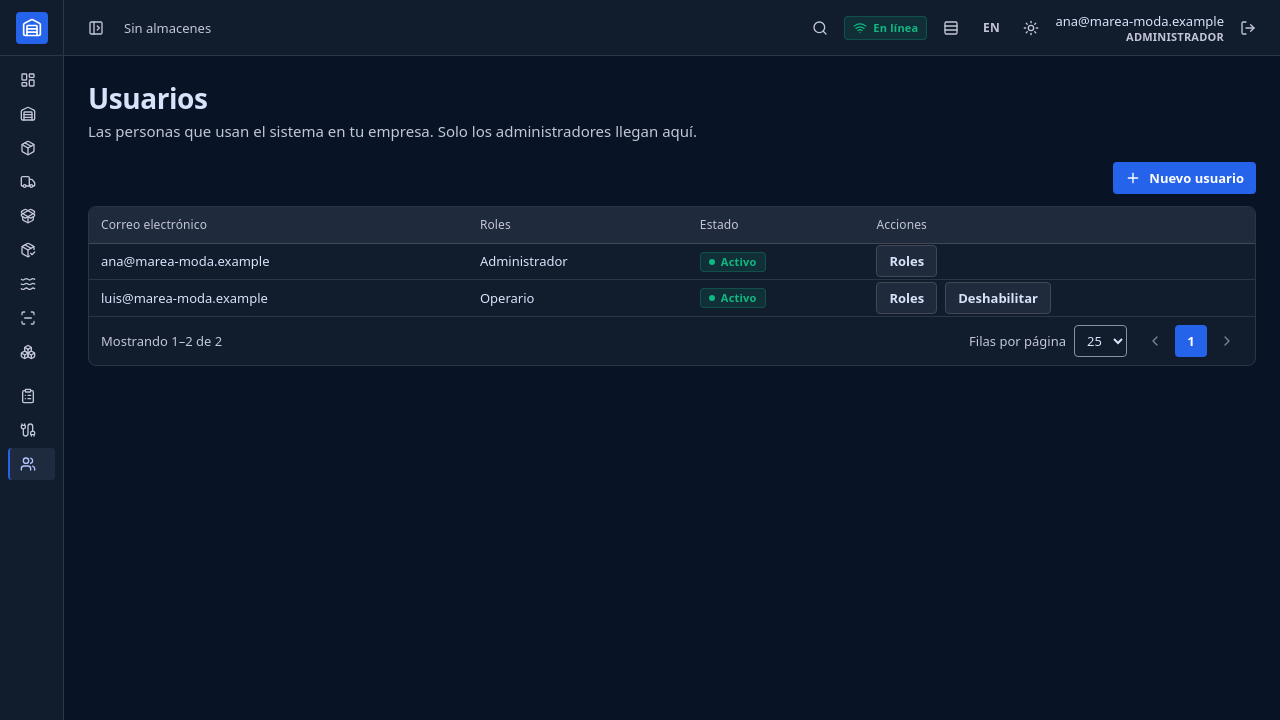
Test: the users › asks before disabling, and says why the API refused
Click the button with aria-label "Deshabilitar a luis@marea-moda.example" at (998, 298), box [945,282,1051,314]
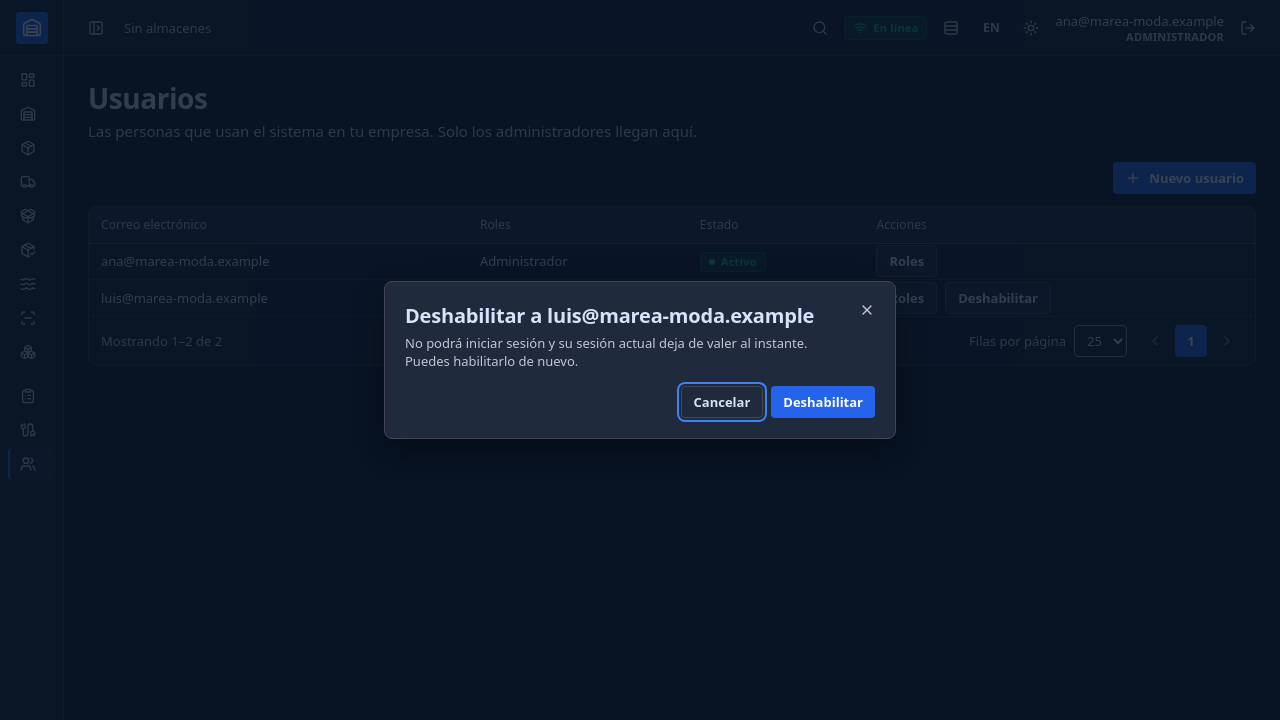
Click the button "Deshabilitar" at (823, 402), box [771,386,875,418]
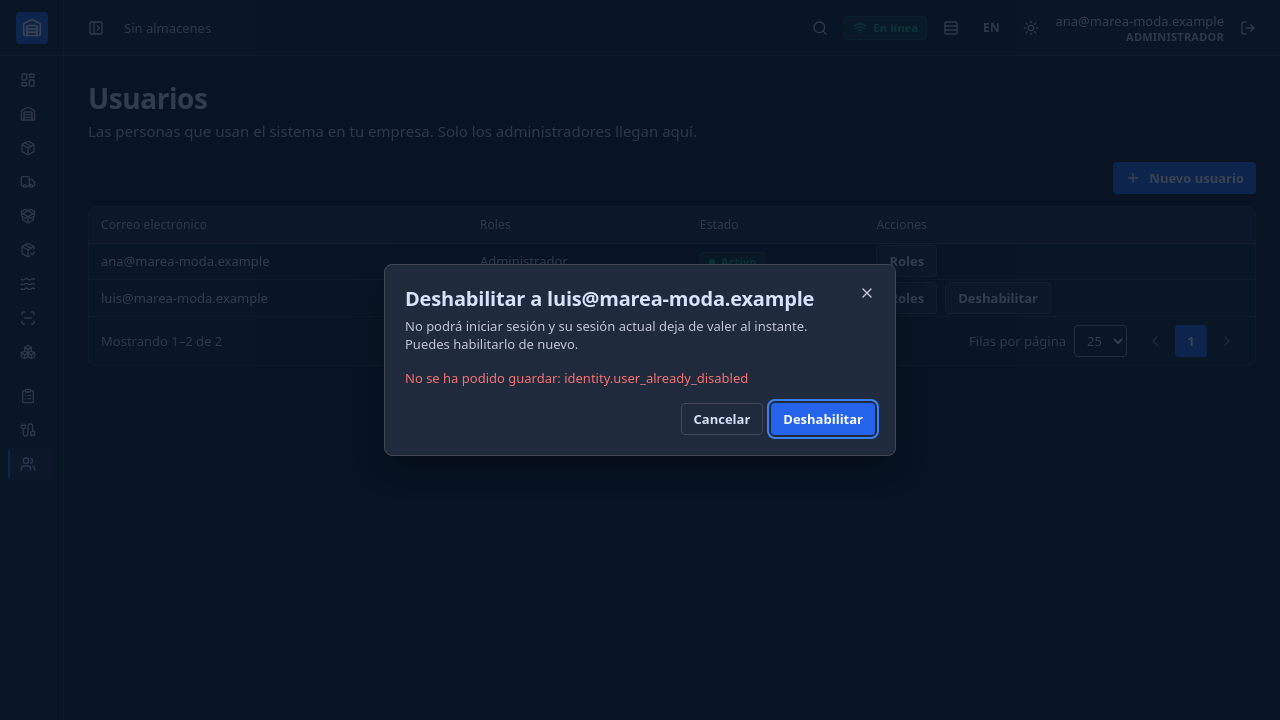
Expected: the message "No se ha podido guardar: identity.user_already_disabled" is shown, [405,369,748,387]
Click the button "Deshabilitar" at (823, 419), box [771,403,875,435]
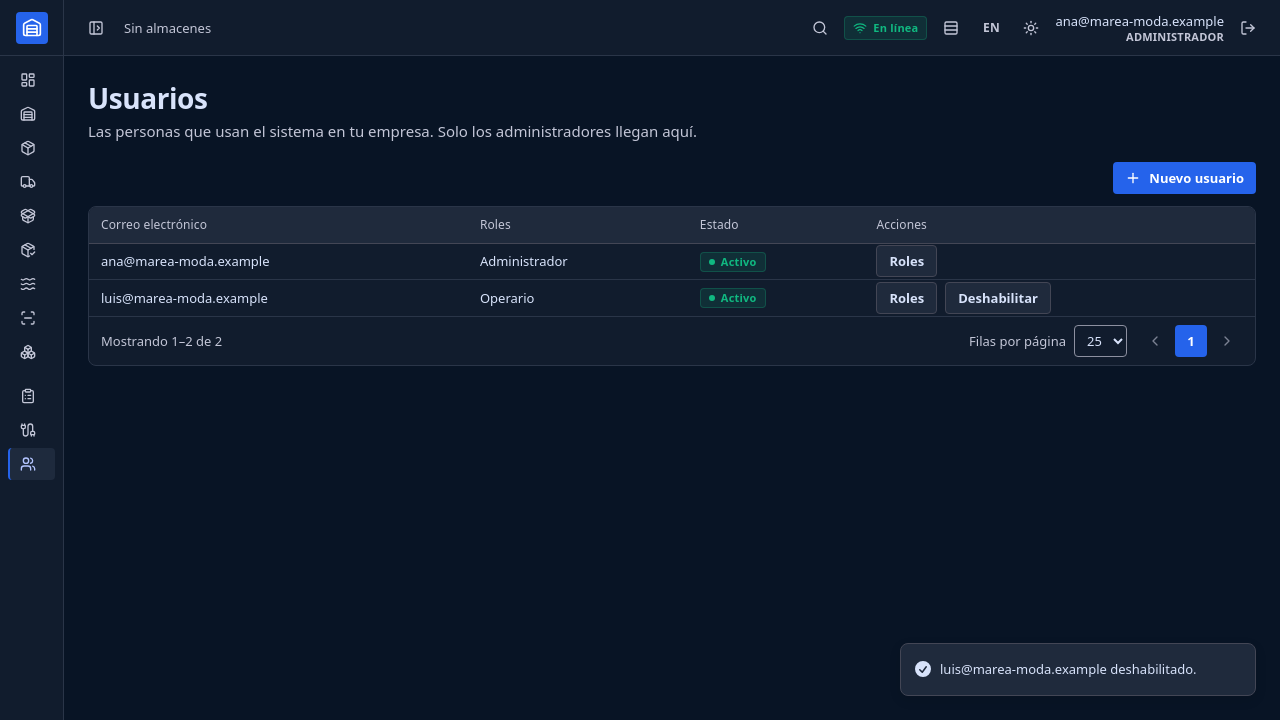
Expected: the dialog is gone
